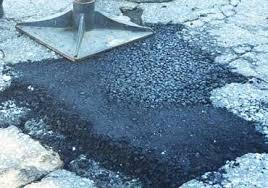alligator-crack: (111, 0, 268, 106)
